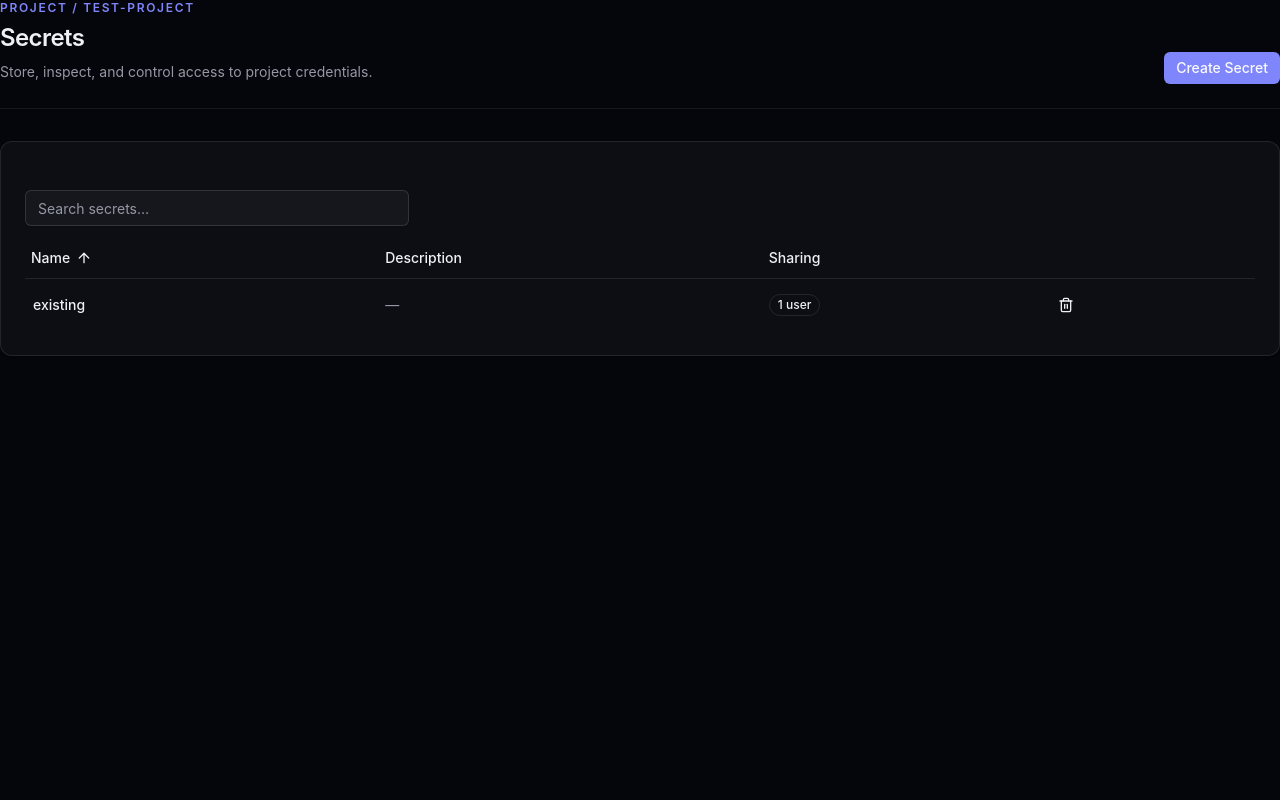
SecretsListPage › creator-as-OWNER is always present even with defaults
This screenshot has width=1280, height=800.
Click the button "Create Secret": (1222, 68) [1164, 52, 1279, 84]
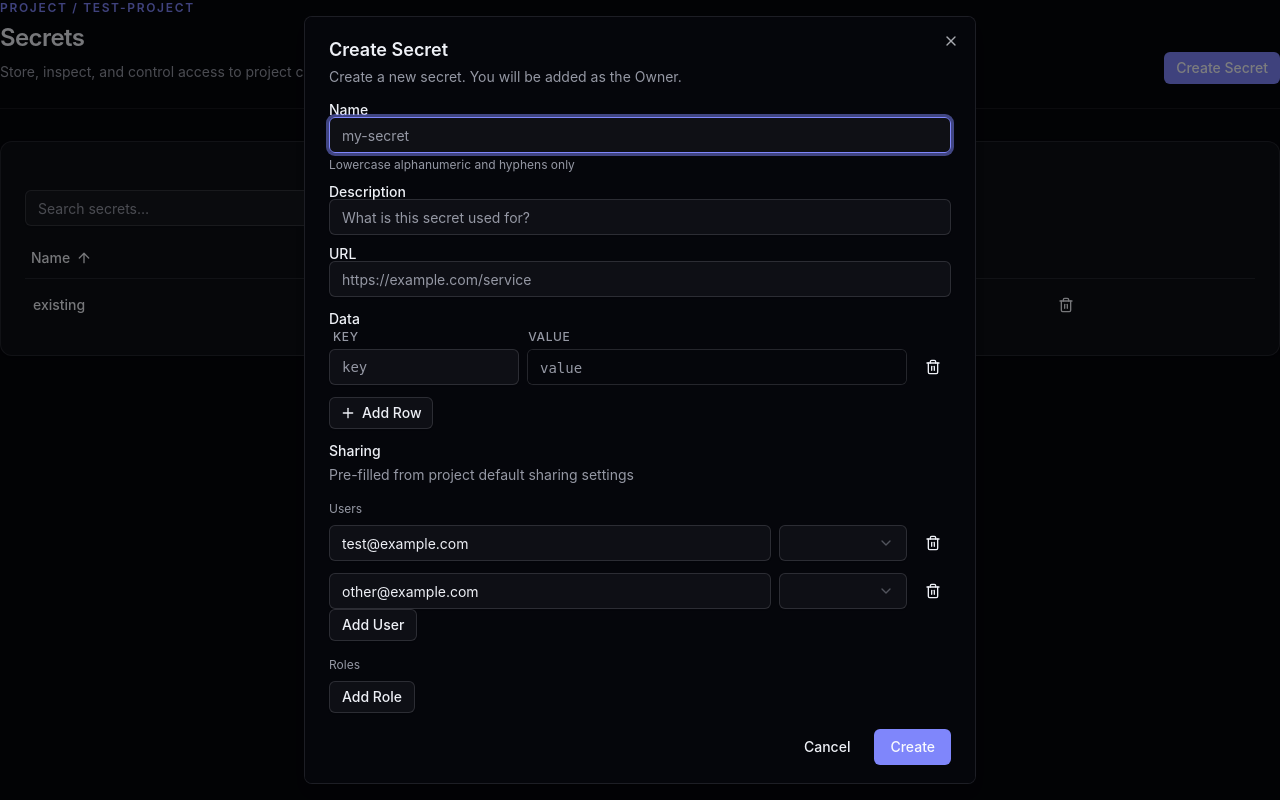
Expected: the field showing "test@example.com" is shown, [329, 525, 771, 561]
Expected: the field showing "other@example.com" is shown, [329, 573, 771, 609]
